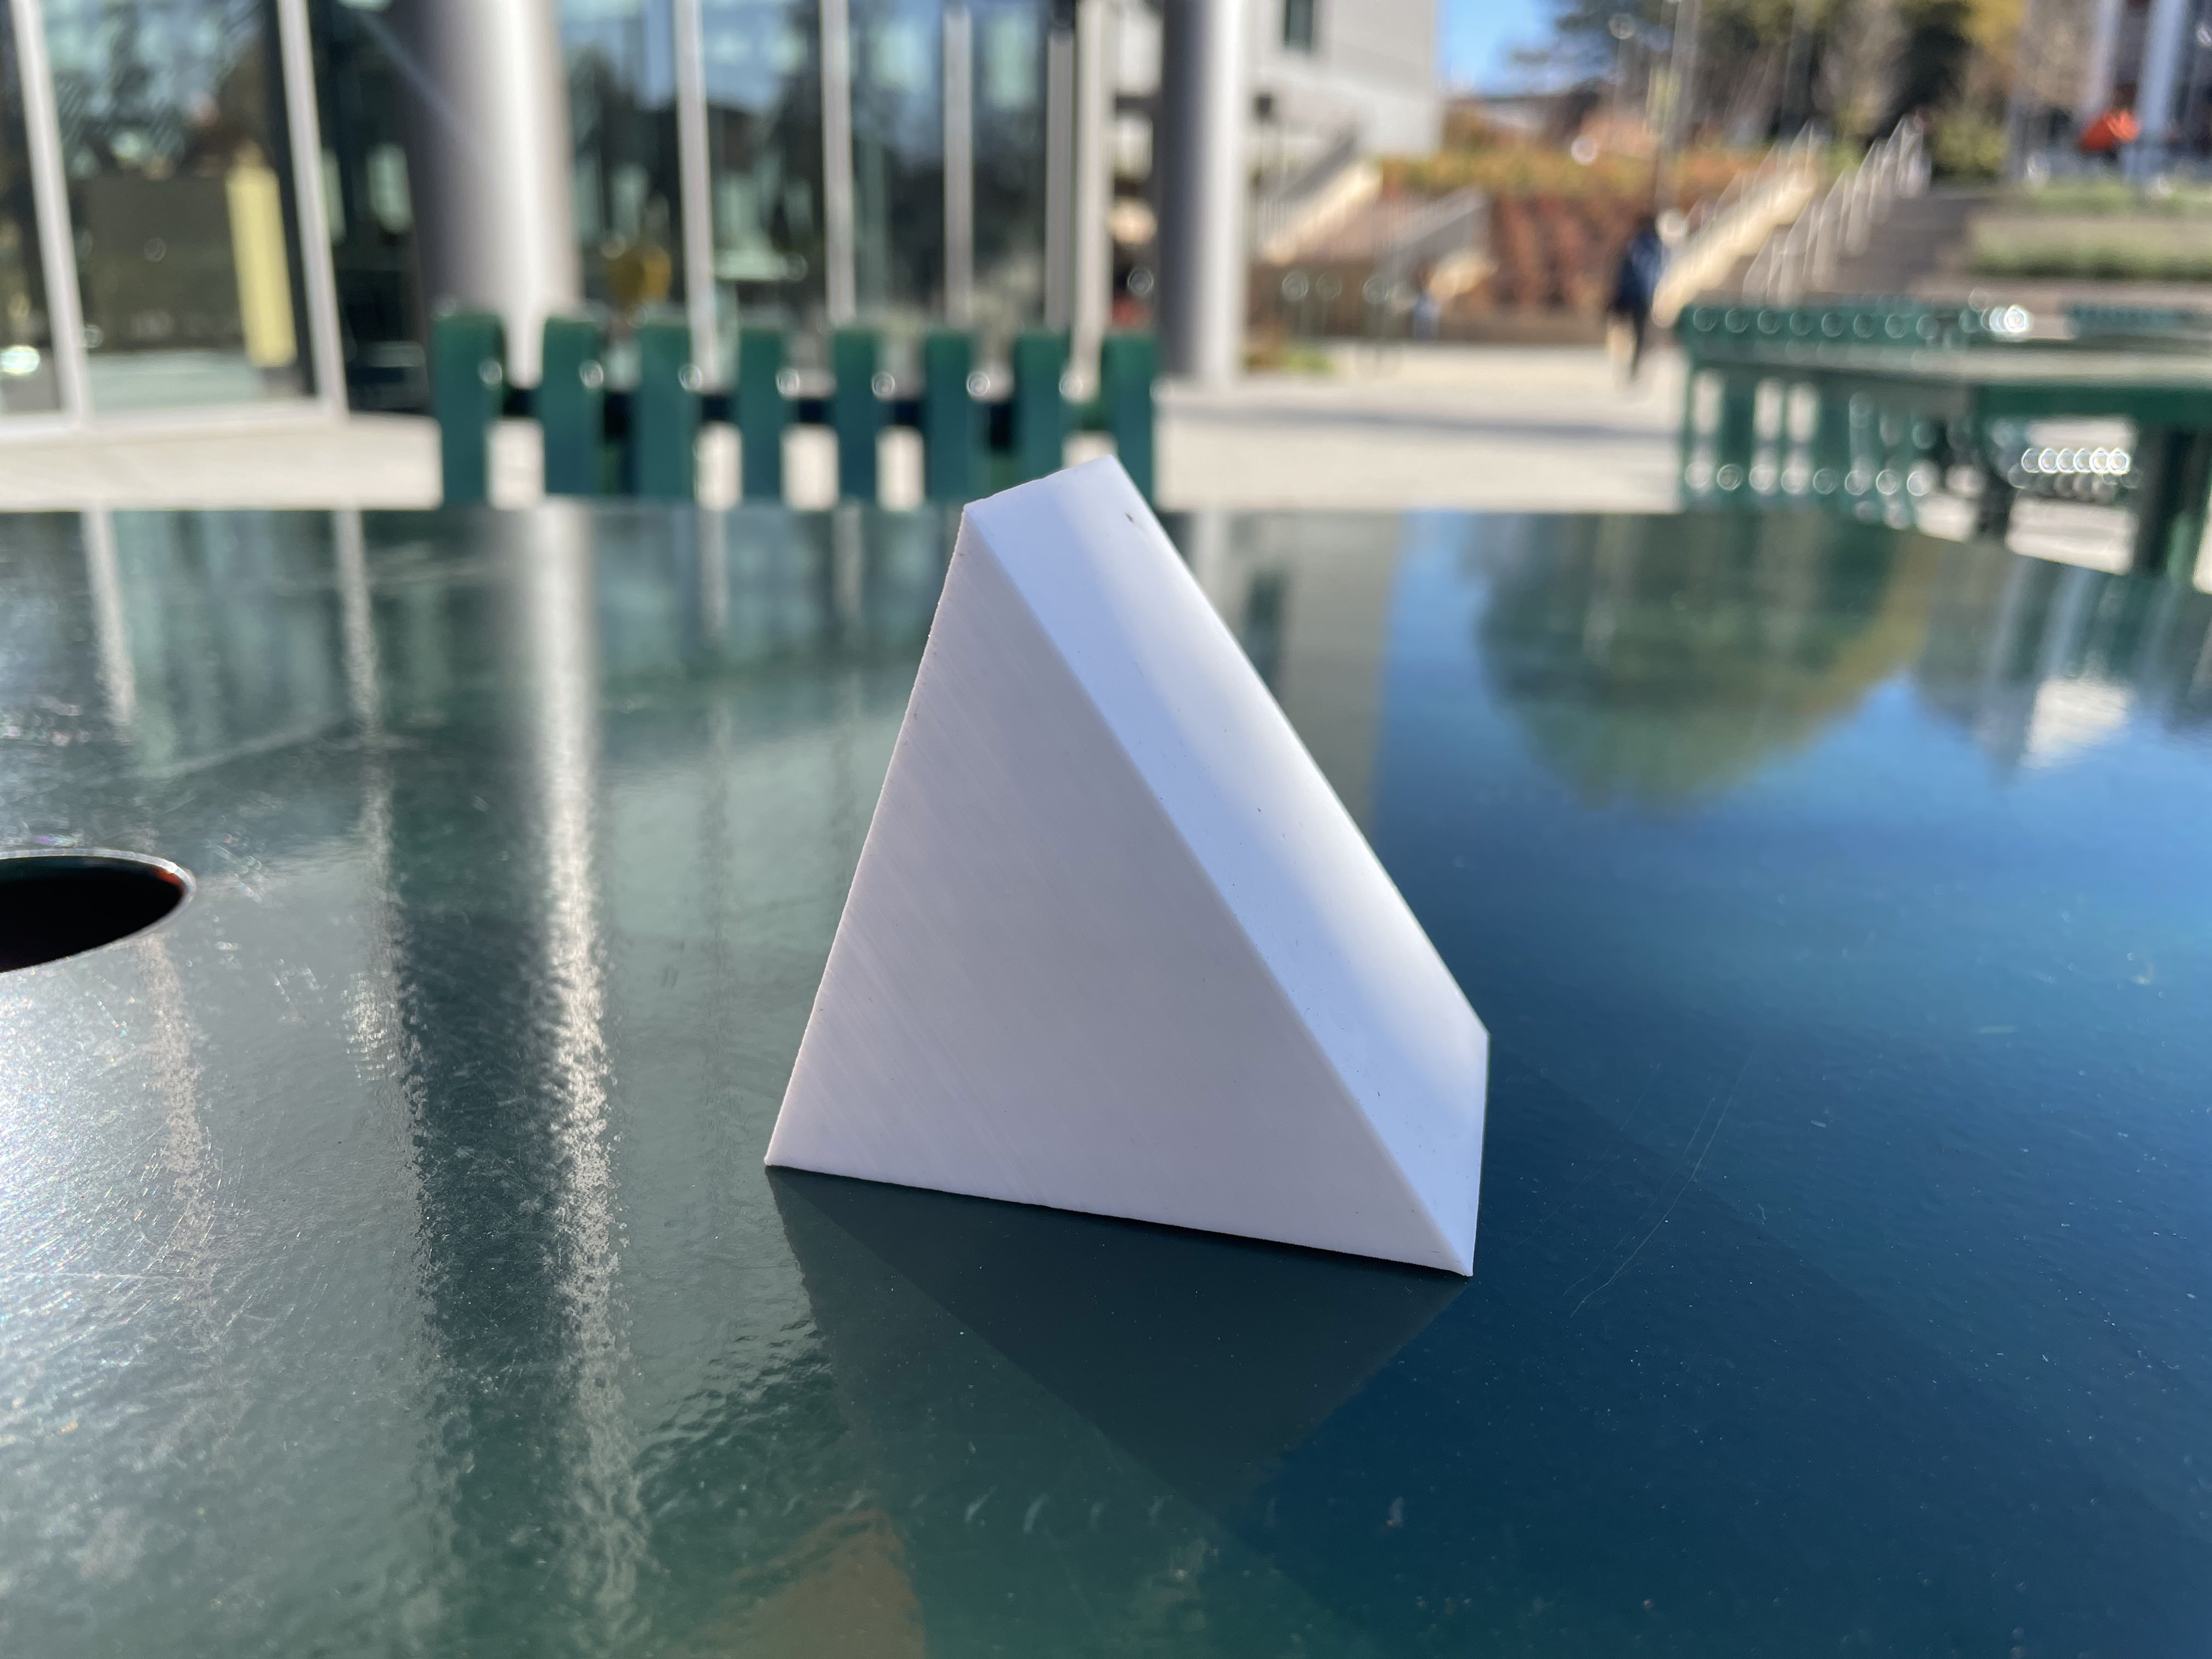payload2: (723, 382, 1588, 1436)
